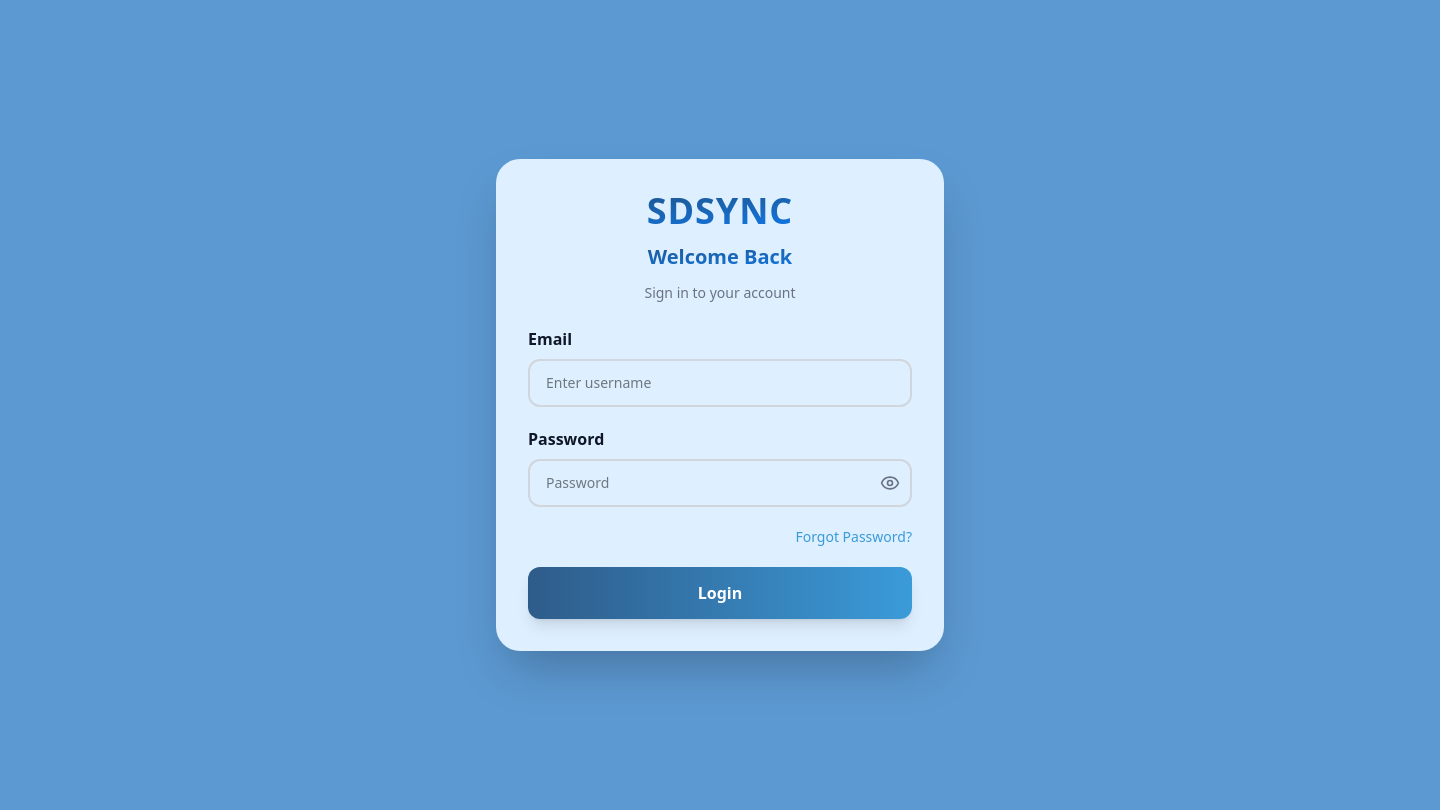
it: Login › closes forgot password modal when cancel is clicked
This screenshot has width=1440, height=810.
// Open modal
Click the button "Forgot Password?" at (854, 537), box [795,527,912,547]
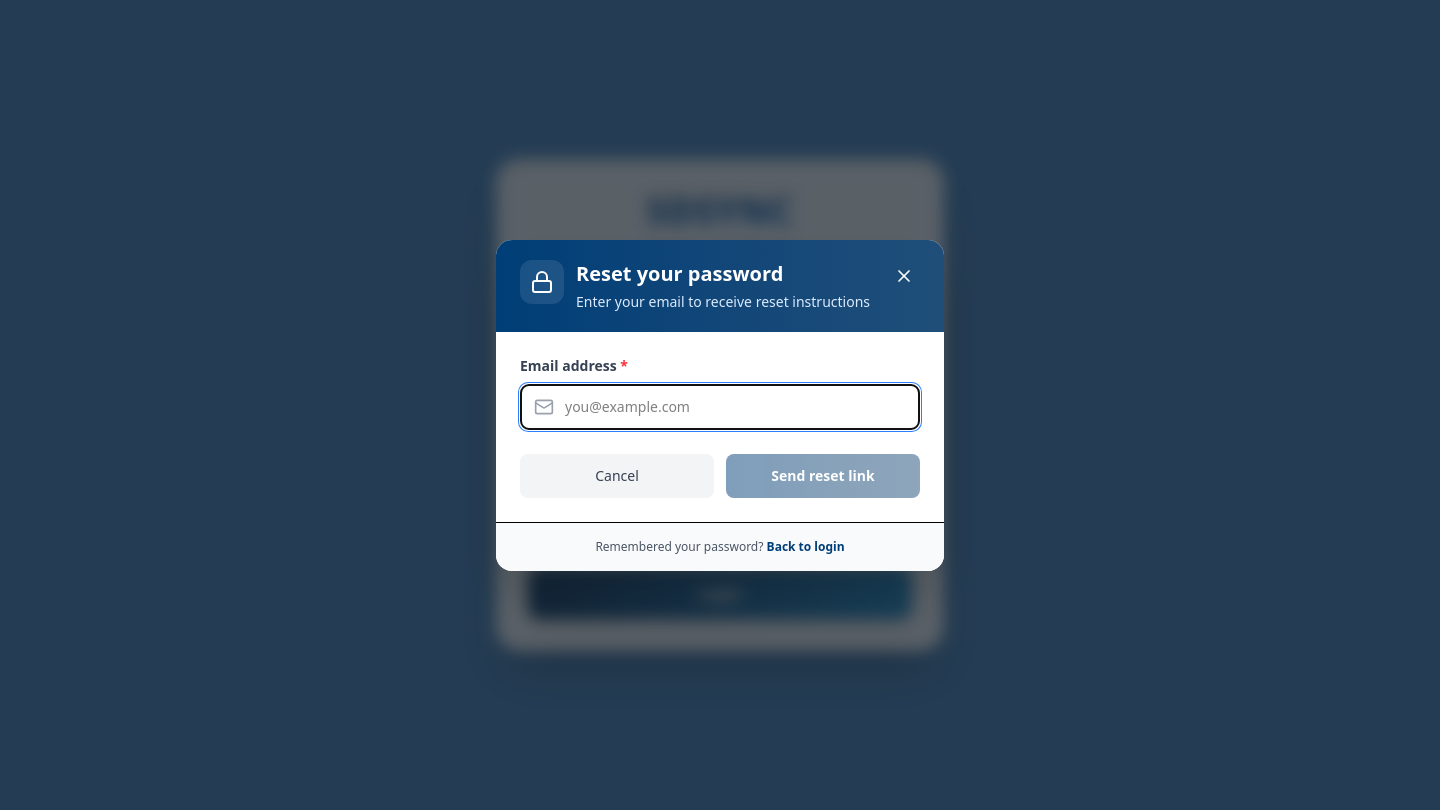
Check: the heading "Reset your password" is shown, box [576,260,783,286]
// Close modal
Click the button "Cancel" at (617, 476), box [520,454,714,498]
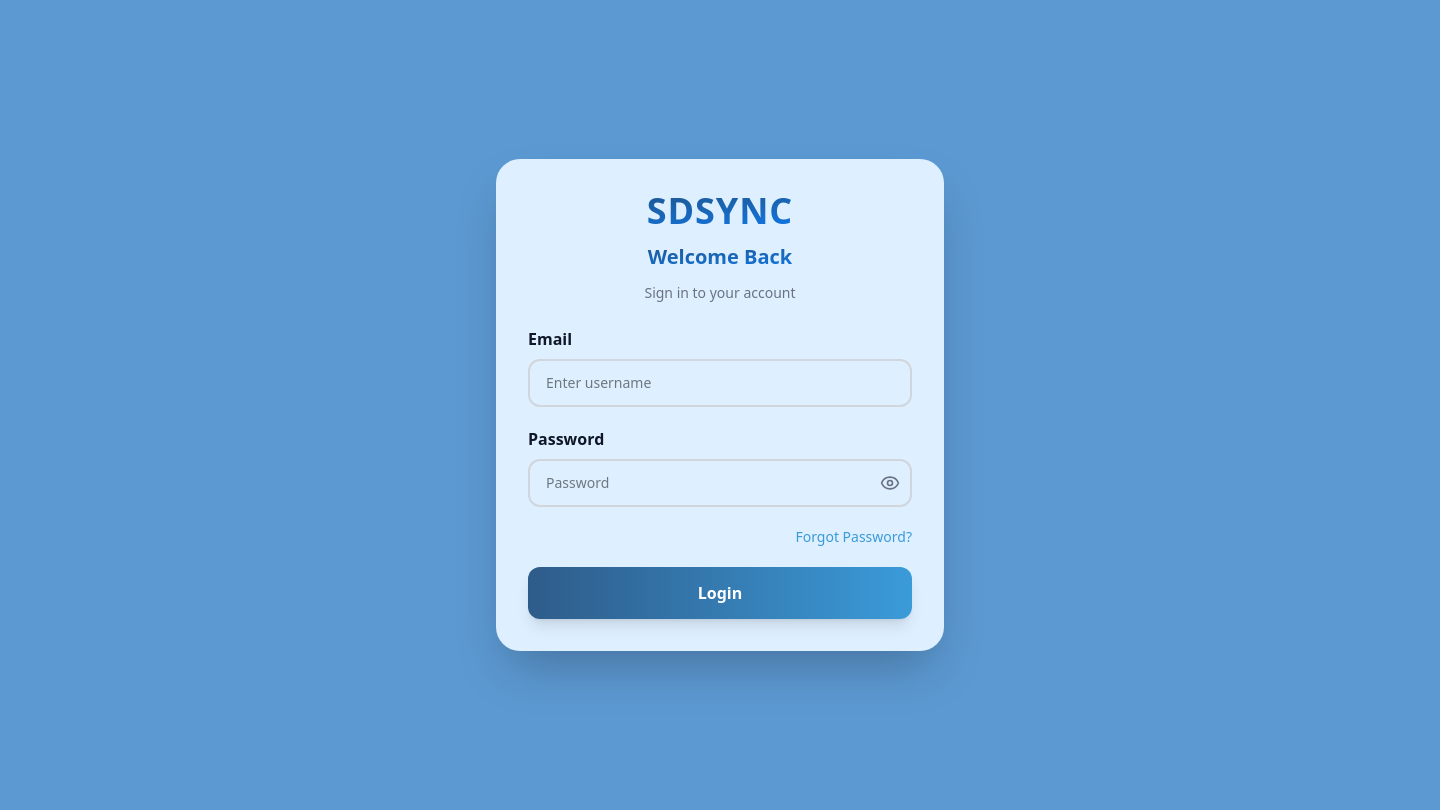
Check: the heading "Reset your password" is gone
